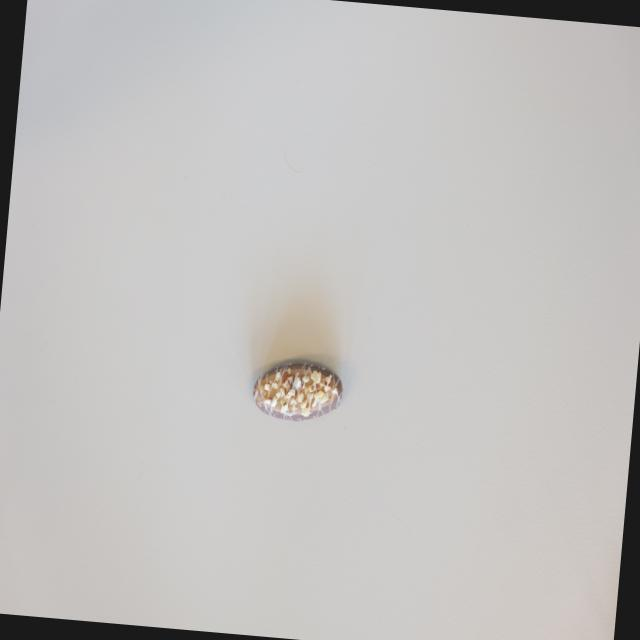Amandina: (250, 356, 344, 428)
